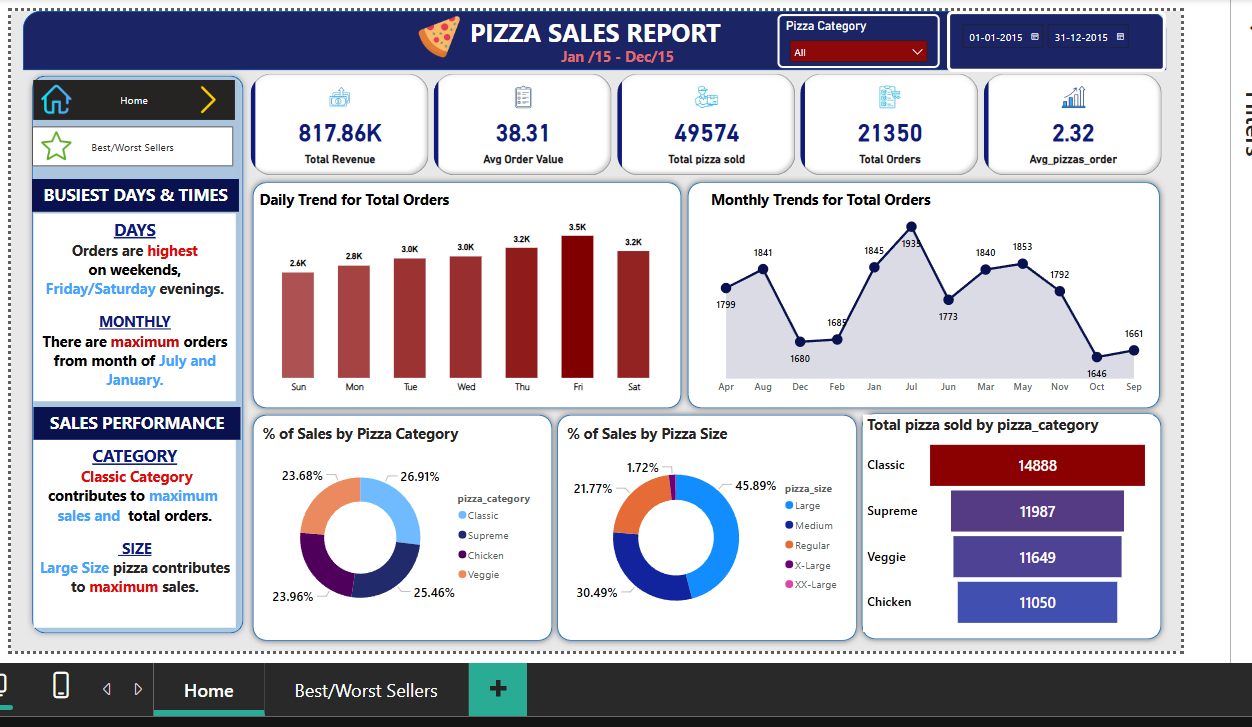

What the dashboard file says about the page in this screenshot:
{"tool":"powerbi","page":{"name":"Home","canvas":[1500,820],"ordinal":0},"visuals":[{"type":"shape","box":[19.2,75,286.5,730.8],"z":0},{"type":"shape","box":[15.8,0,1465.8,76],"z":1000},{"type":"textbox","title":"Pi","box":[160.5,0,1178.9,150],"z":2000},{"type":"textbox","box":[700,40,565.8,150],"z":3000},{"type":"image","box":[481.6,0,136.8,65.8],"z":4000},{"type":"shape","box":[301.9,211.5,565.4,305.8],"z":5000},{"type":"columnChart","title":"Daily Trend for Total Orders","fields":{"Y":["Measure_Table.Total Orders"],"Category":["pizza_sales.Order Day"]},"box":[313.5,228.8,540.4,271.2],"z":6000},{"type":"shape","box":[859.6,211.5,621.2,305.8],"z":7000},{"type":"areaChart","title":"Monthly Trends for Total Orders","fields":{"Category":["pizza_sales.Order Month"],"Y":["Measure_Table.Total Orders"]},"box":[892.3,228.8,571.2,271.2],"z":8000},{"type":"shape","box":[301.9,509.6,400,305.8],"z":9000},{"type":"donutChart","title":"% of Sales by Pizza Category","fields":{"Category":["pizza_sales.pizza_category"],"Y":["Measure_Table.Total Revenue"]},"box":[317.3,528.8,369.2,267.3],"z":10000},{"type":"shape","box":[692.3,509.6,400,305.8],"z":11000},{"type":"shape","box":[1082.7,507.7,400,305.8],"z":12000},{"type":"donutChart","title":"% of Sales by Pizza Size","fields":{"Category":["pizza_sales.pizza_size"],"Y":["Measure_Table.Total Revenue"]},"box":[707.7,528.8,369.2,267.3],"z":13000},{"type":"funnel","fields":{"Category":["pizza_sales.pizza_category"],"Y":["Measure_Table.Total pizza sold"]},"box":[1092.3,517.3,371.2,278.8],"z":14000},{"type":"textbox","box":[26.9,215.4,265.4,42.3],"z":15000},{"type":"cardVisual","fields":{"Data":["Measure_Table.Total Revenue","Measure_Table.Avg Order Value","Measure_Table.Total pizza sold","Measure_Table.Total Orders","Measure_Table.Avg_pizzas_order"]},"box":[301.9,75,1178.8,140.4],"z":16000},{"type":"textbox","box":[28.8,259.6,259.6,240.4],"z":17000},{"type":"textbox","box":[28.8,507.7,265.4,42.3],"z":18000},{"type":"textbox","box":[28.8,550,259.6,240.4],"z":19000},{"type":"slicer","title":"Pizza Category","fields":{"Values":["pizza_sales.pizza_category"]},"box":[982.7,3.8,207.7,69.2],"z":20000},{"type":"slicer","title":"Date","fields":{"Values":["pizza_sales.order_date"]},"box":[1200,0,280.5,78],"z":21000},{"type":"pageNavigator","box":[29.3,87.8,258.5,51.2],"z":22000},{"type":"pageNavigator","box":[26.8,148.8,258.5,51.2],"z":23000},{"type":"image","box":[224.4,90.2,56.1,46.3],"z":24000},{"type":"image","box":[29.3,148.8,58.5,48.8],"z":25000},{"type":"image","box":[29.3,87.8,58.5,48.8],"z":26000}]}

Visuals, with their boxes on the page's 1500x820 design canvas (x1, y1, x2, y2). These are canvas units, not pixel positions in the 1252x727 screenshot, which may show the page scaled, cropped or inside an application window:
shape: <bbox>19, 75, 306, 806</bbox>
shape: <bbox>16, 0, 1482, 76</bbox>
"Pi" textbox: <bbox>160, 0, 1339, 150</bbox>
textbox: <bbox>700, 40, 1266, 190</bbox>
image: <bbox>482, 0, 618, 66</bbox>
shape: <bbox>302, 212, 867, 517</bbox>
"Daily Trend for Total Orders" columnChart: <bbox>314, 229, 854, 500</bbox>
shape: <bbox>860, 212, 1481, 517</bbox>
"Monthly Trends for Total Orders" areaChart: <bbox>892, 229, 1464, 500</bbox>
shape: <bbox>302, 510, 702, 815</bbox>
"% of Sales by Pizza Category" donutChart: <bbox>317, 529, 686, 796</bbox>
shape: <bbox>692, 510, 1092, 815</bbox>
shape: <bbox>1083, 508, 1483, 814</bbox>
"% of Sales by Pizza Size" donutChart: <bbox>708, 529, 1077, 796</bbox>
funnel - pizza_sales.pizza_category x Measure_Table.Total pizza sold: <bbox>1092, 517, 1464, 796</bbox>
textbox: <bbox>27, 215, 292, 258</bbox>
cardVisual - Measure_Table.Total Revenue x Measure_Table.Avg Order Value: <bbox>302, 75, 1481, 215</bbox>
textbox: <bbox>29, 260, 288, 500</bbox>
textbox: <bbox>29, 508, 294, 550</bbox>
textbox: <bbox>29, 550, 288, 790</bbox>
"Pizza Category" slicer: <bbox>983, 4, 1190, 73</bbox>
"Date" slicer: <bbox>1200, 0, 1480, 78</bbox>
pageNavigator: <bbox>29, 88, 288, 139</bbox>
pageNavigator: <bbox>27, 149, 285, 200</bbox>
image: <bbox>224, 90, 280, 136</bbox>
image: <bbox>29, 149, 88, 198</bbox>
image: <bbox>29, 88, 88, 137</bbox>
